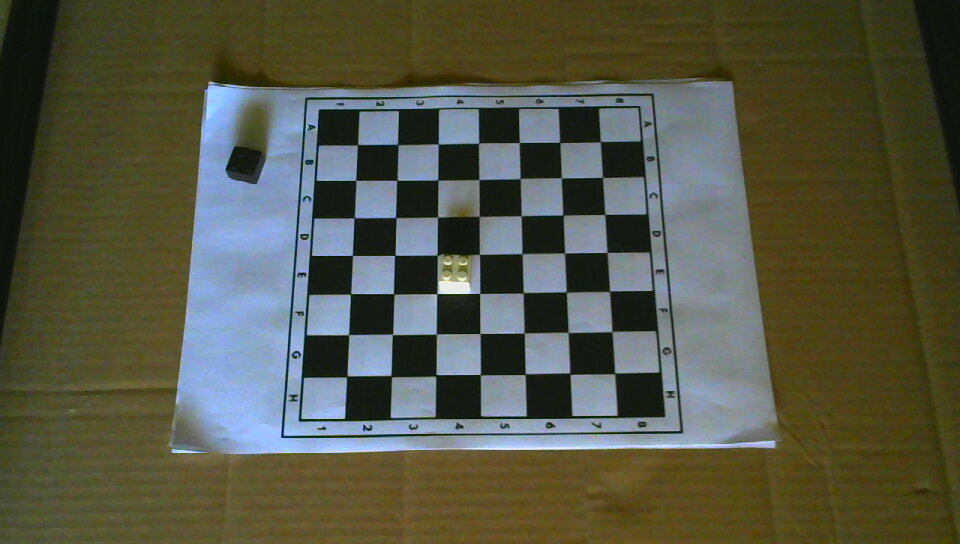bp: (225, 145, 267, 183)
wp: (439, 252, 473, 292)
